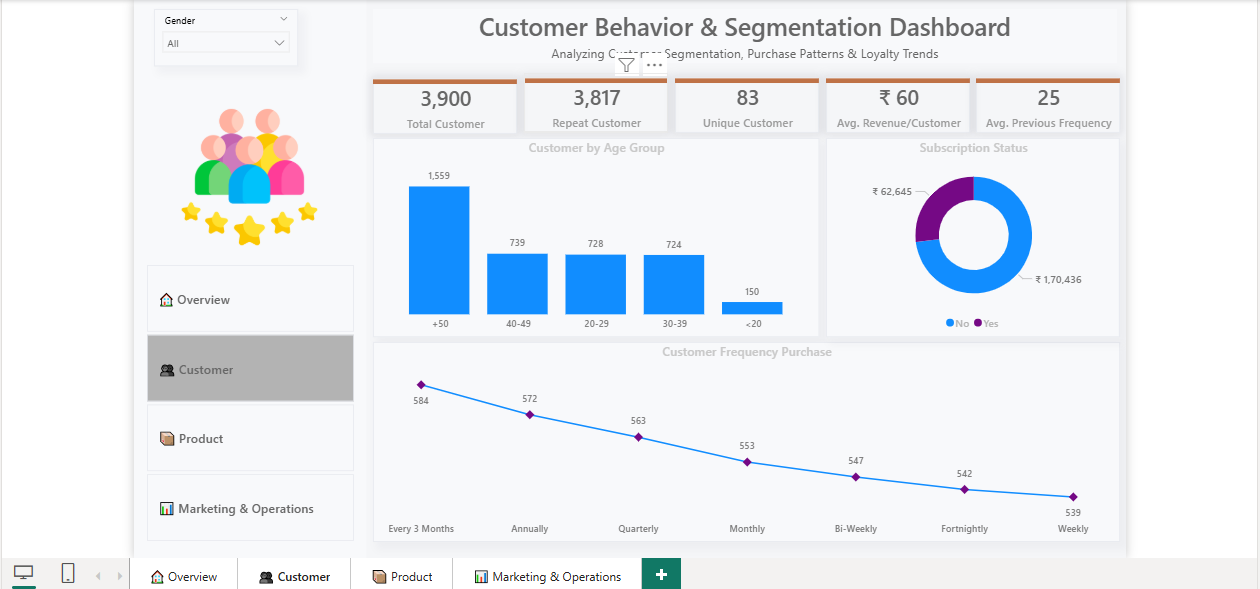

Layout of this report page (visuals, bound fields, positions):
{"tool":"powerbi","page":{"name":"👥    Customer","canvas":[1280,720],"ordinal":1},"visuals":[{"type":"shape","box":[0,0,300.5,720],"z":0},{"type":"card","title":"Total Customer","fields":{"Values":["Overview Measure.Repeat Customer(#)"]},"box":[503,99,186.1,71.8],"z":0,"group":"g2"},{"type":"card","title":"Total Customer","fields":{"Values":["Overview Measure.Unique Customer"]},"box":[697.7,99.2,186.1,71.8],"z":0,"group":"g3"},{"type":"card","title":"Total Customer","fields":{"Values":["Overview Measure.Avg. Revenue/Customer"]},"box":[892.3,99.5,186.1,71.8],"z":0,"group":"g4"},{"type":"card","title":"Total Customer","fields":{"Values":["Overview Measure.Avg. Previous Purchase"]},"box":[1087,99.7,186.1,71.8],"z":0,"group":"g5"},{"type":"card","title":"Total Customer","fields":{"Values":["Overview Measure.Total Customer"]},"box":[308.4,100,186.1,71.8],"z":0,"group":"g1"},{"type":"shape","box":[503.6,94,185.7,19.8],"z":1000,"group":"g2"},{"type":"shape","box":[698.3,94.2,185.7,19.8],"z":1000,"group":"g3"},{"type":"shape","box":[892.9,94.5,185.7,19.8],"z":1000,"group":"g4"},{"type":"shape","box":[1087.6,94.7,185.7,19.8],"z":1000,"group":"g5"},{"type":"shape","box":[309,95,185.7,19.8],"z":1000,"group":"g1"},{"type":"pageNavigator","box":[16.8,341.9,267.1,357.4],"z":1000},{"type":"image","box":[15.5,135.5,267.1,185.8],"z":2000},{"type":"textbox","title":"Customer Behavior & Segmentation Dashboard","box":[308.4,11.6,960,74],"z":3000},{"type":"group","id":"g1","title":"Total Customer","box":[308.4,95,186.3,76.8],"z":4000},{"type":"group","id":"g2","title":"Total Customer","box":[503,94,186.3,76.8],"z":5000},{"type":"group","id":"g3","title":"Total Customer","box":[697.7,94.2,186.3,76.8],"z":6000},{"type":"group","id":"g4","title":"Total Customer","box":[892.3,94.5,186.3,76.8],"z":7000},{"type":"group","id":"g5","title":"Total Customer","box":[1087,94.7,186.3,76.8],"z":8000},{"type":"columnChart","title":"Customer by Age Group","fields":{"Category":["FSales.Age Group"],"Y":["Overview Measure.Total Customer"]},"box":[308.4,178.1,575.5,256.5],"z":9000},{"type":"lineChart","title":"Customer Frequency Purchase","fields":{"Category":["dim_Frequency_Purchase.@Frequency_Purchase"],"Y":["Overview Measure.Total Customer"]},"box":[308.4,441.3,963.7,257.9],"z":10000},{"type":"donutChart","title":"Subscription Status","fields":{"Category":["FSales.Subscription Status"],"Y":["Overview Measure.Total Revenue"]},"box":[892.9,178.1,379.4,256.8],"z":11000},{"type":"slicer","fields":{"Values":["dim_Customer.@Gender","FSales.Size"]},"box":[25.8,11.6,185.8,73.5],"z":12000}]}

Visuals, with their boxes on the page's 1280x720 design canvas (x1, y1, x2, y2). These are canvas units, not pixel positions in the 1260x589 screenshot, which may show the page scaled, cropped or inside an application window:
shape: [left=0, top=0, right=300, bottom=720]
"Total Customer" card: [left=503, top=99, right=689, bottom=171]
"Total Customer" card: [left=698, top=99, right=884, bottom=171]
"Total Customer" card: [left=892, top=100, right=1078, bottom=171]
"Total Customer" card: [left=1087, top=100, right=1273, bottom=172]
"Total Customer" card: [left=308, top=100, right=494, bottom=172]
shape: [left=504, top=94, right=689, bottom=114]
shape: [left=698, top=94, right=884, bottom=114]
shape: [left=893, top=94, right=1079, bottom=114]
shape: [left=1088, top=95, right=1273, bottom=114]
shape: [left=309, top=95, right=495, bottom=115]
pageNavigator: [left=17, top=342, right=284, bottom=699]
image: [left=16, top=136, right=283, bottom=321]
"Customer Behavior & Segmentation Dashboard" textbox: [left=308, top=12, right=1268, bottom=86]
"Total Customer" group: [left=308, top=95, right=495, bottom=172]
"Total Customer" group: [left=503, top=94, right=689, bottom=171]
"Total Customer" group: [left=698, top=94, right=884, bottom=171]
"Total Customer" group: [left=892, top=94, right=1079, bottom=171]
"Total Customer" group: [left=1087, top=95, right=1273, bottom=172]
"Customer by Age Group" columnChart: [left=308, top=178, right=884, bottom=435]
"Customer Frequency Purchase" lineChart: [left=308, top=441, right=1272, bottom=699]
"Subscription Status" donutChart: [left=893, top=178, right=1272, bottom=435]
slicer - dim_Customer.@Gender x FSales.Size: [left=26, top=12, right=212, bottom=85]
